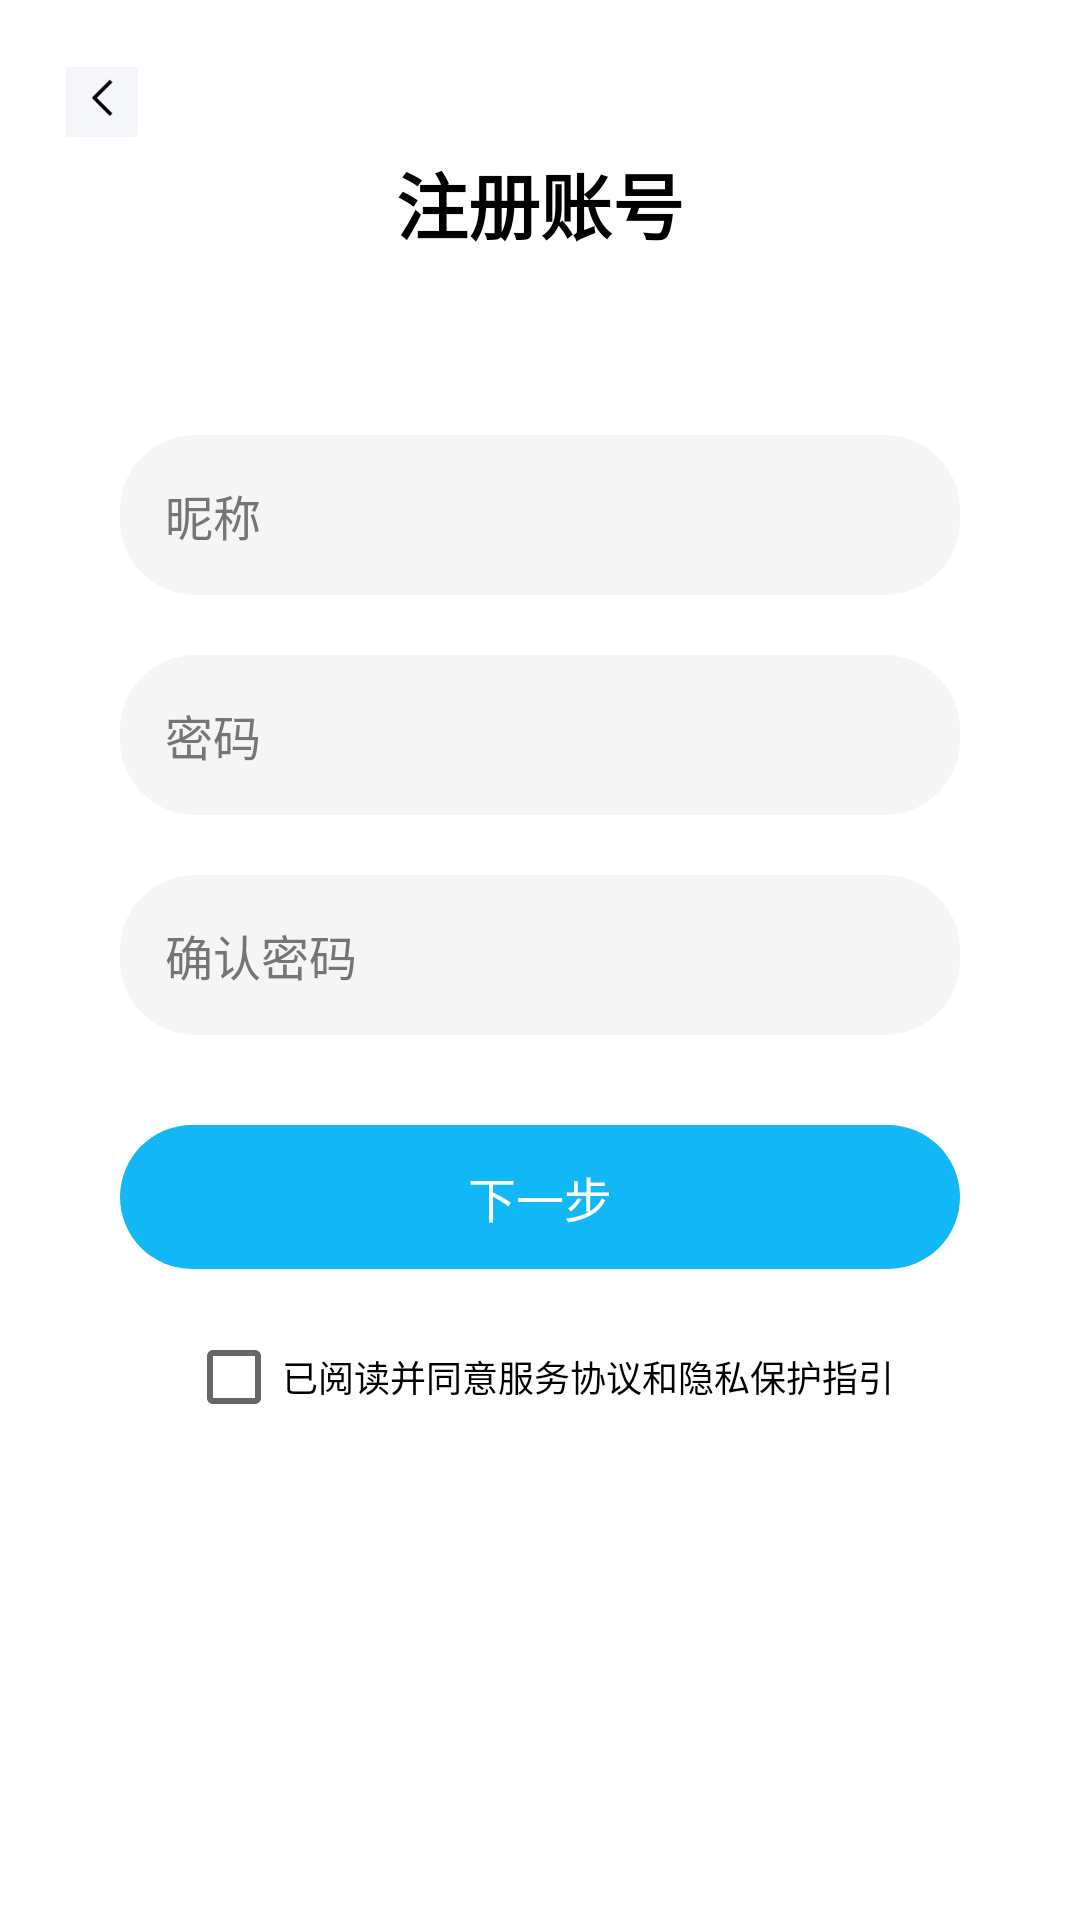

Named icons in this screenshot (1080x1920) and their bounding boxes, (x1, y1, x2, y2):
back: (66, 67, 138, 137)
